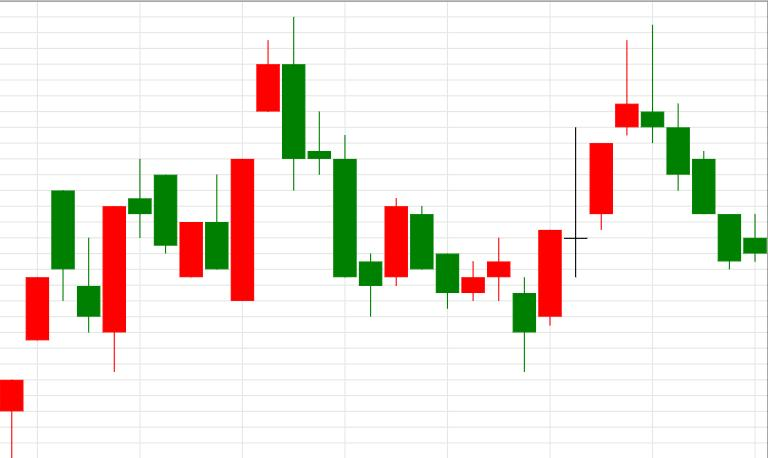bearish_engulfing_fall: (179, 17, 305, 301)
shooting_star_fall: (513, 41, 638, 370)
